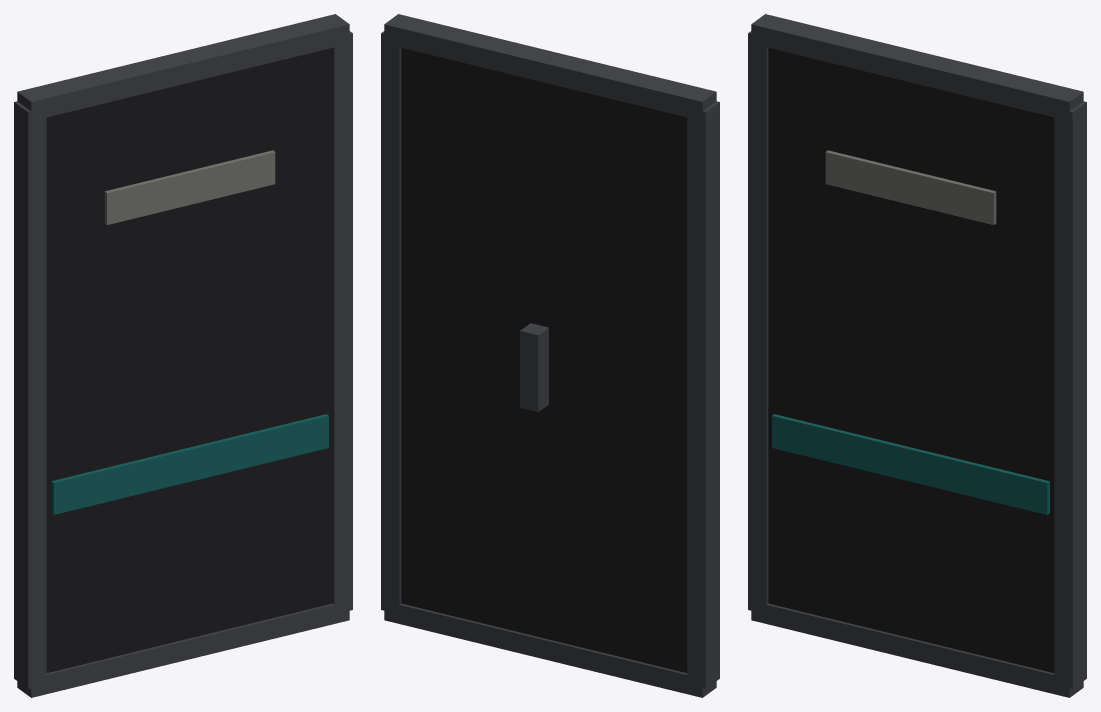
The model's file is riot_shield.glb.
3 views of the same model, side by side, from view 1: azimuth 30°, elevation 25°; view 2: azimuth 150°, elevation 25°; view 3: azimuth 330°, elevation 25° (orthographic).
Visible parts, largest first — view 1: riot_shield; view 2: riot_shield; view 3: riot_shield.
Part boxes in pixels (left/top/right/bottom): riot_shield: left=14, top=14, right=352, bottom=697; riot_shield: left=381, top=14, right=719, bottom=697; riot_shield: left=748, top=14, right=1086, bottom=697.
Bounding box in the file's own units: 0.53 × 0.93 × 0.082.
